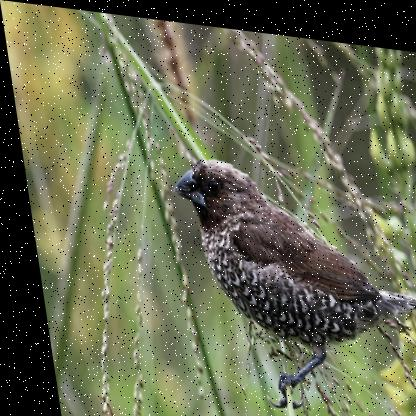Burung: (164, 149, 415, 415)
